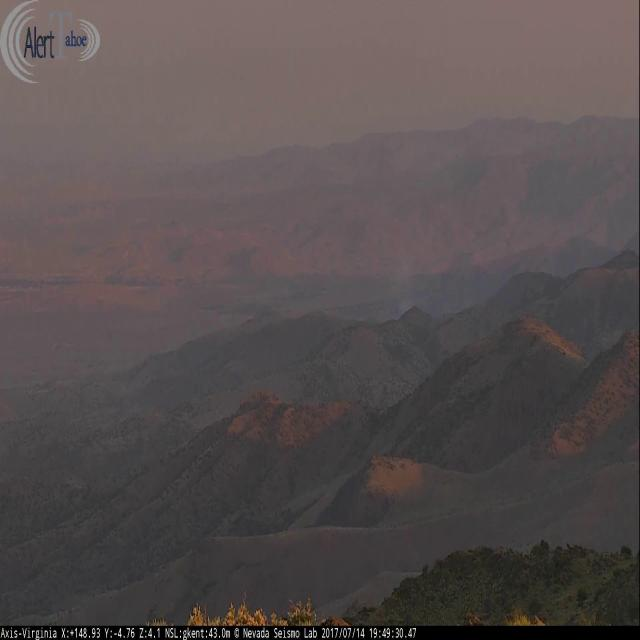smoke: (382, 255, 413, 322)
